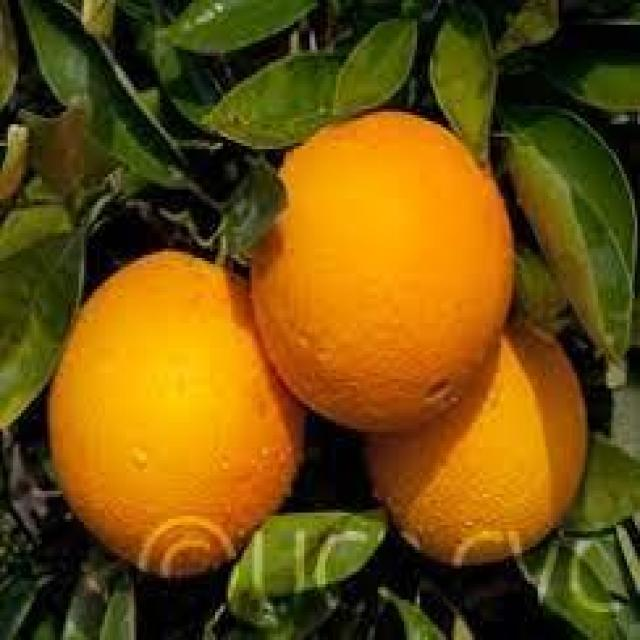fruit: (49, 253, 306, 575), (252, 112, 510, 430), (366, 319, 586, 565)
